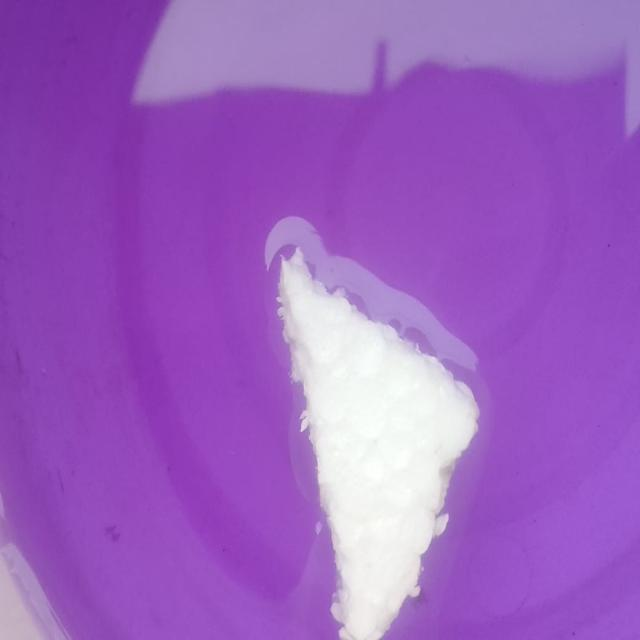litter: (265, 234, 485, 632)
